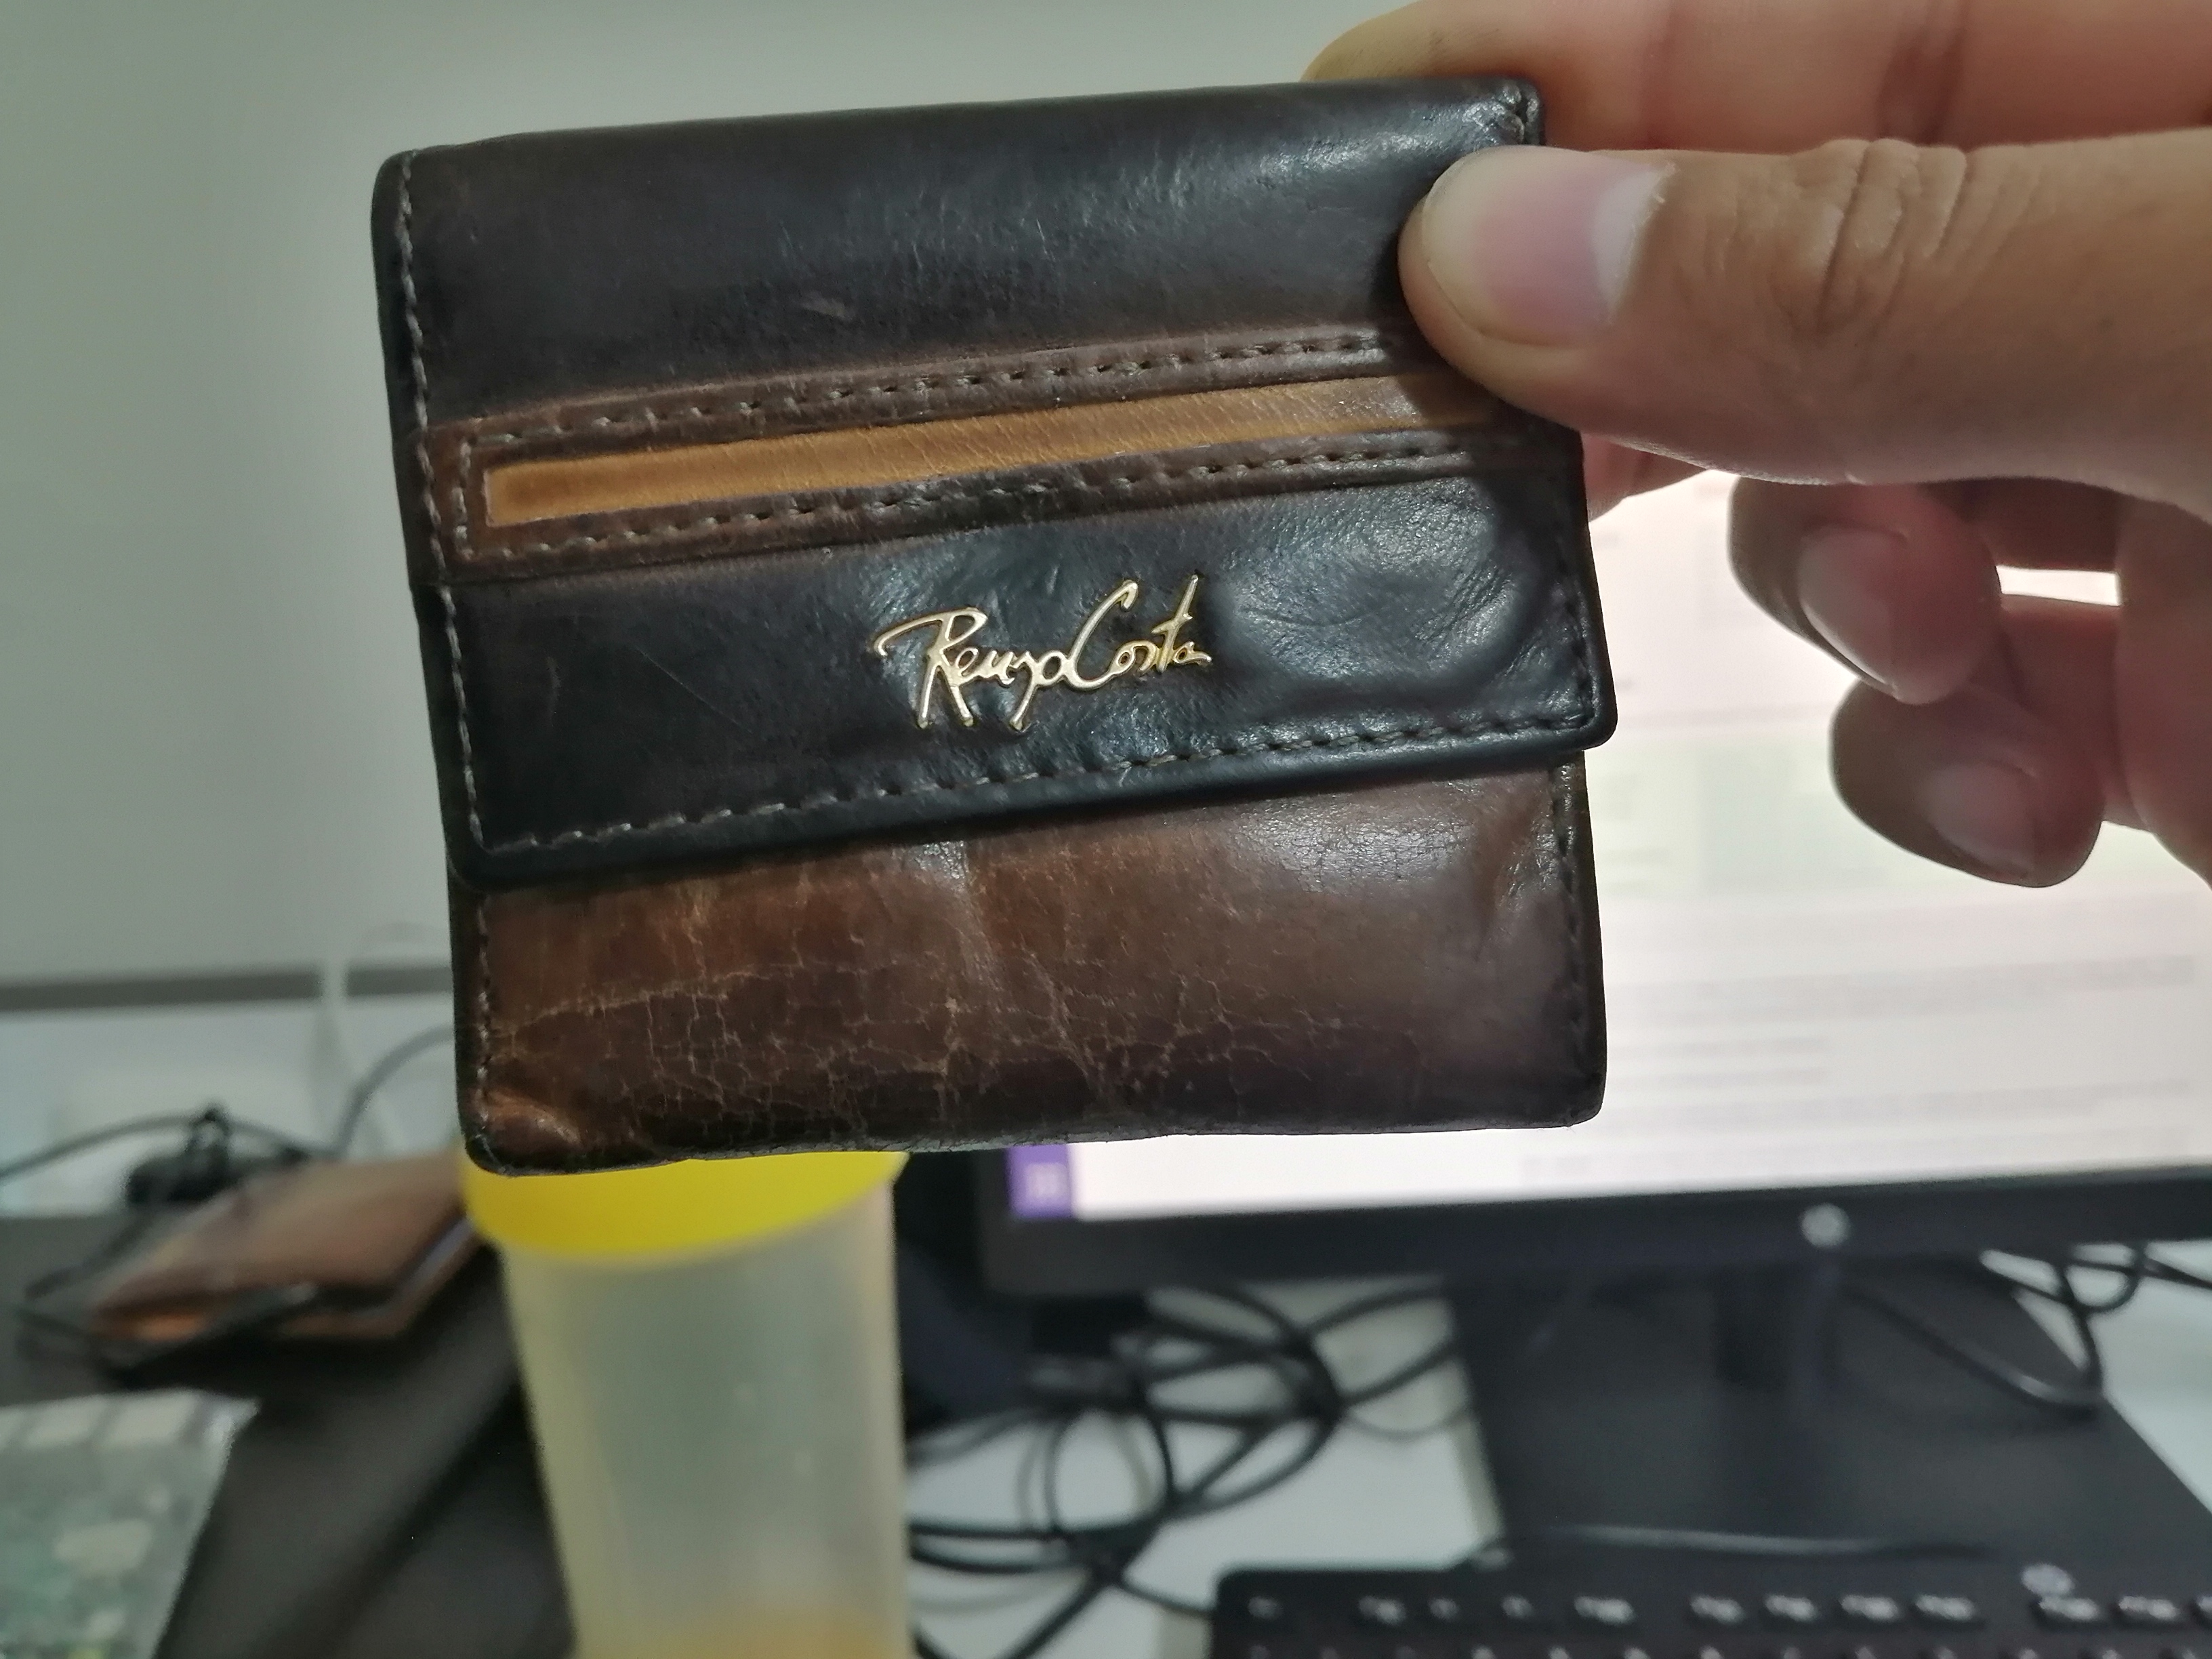monedero: (348, 66, 1658, 1192)
